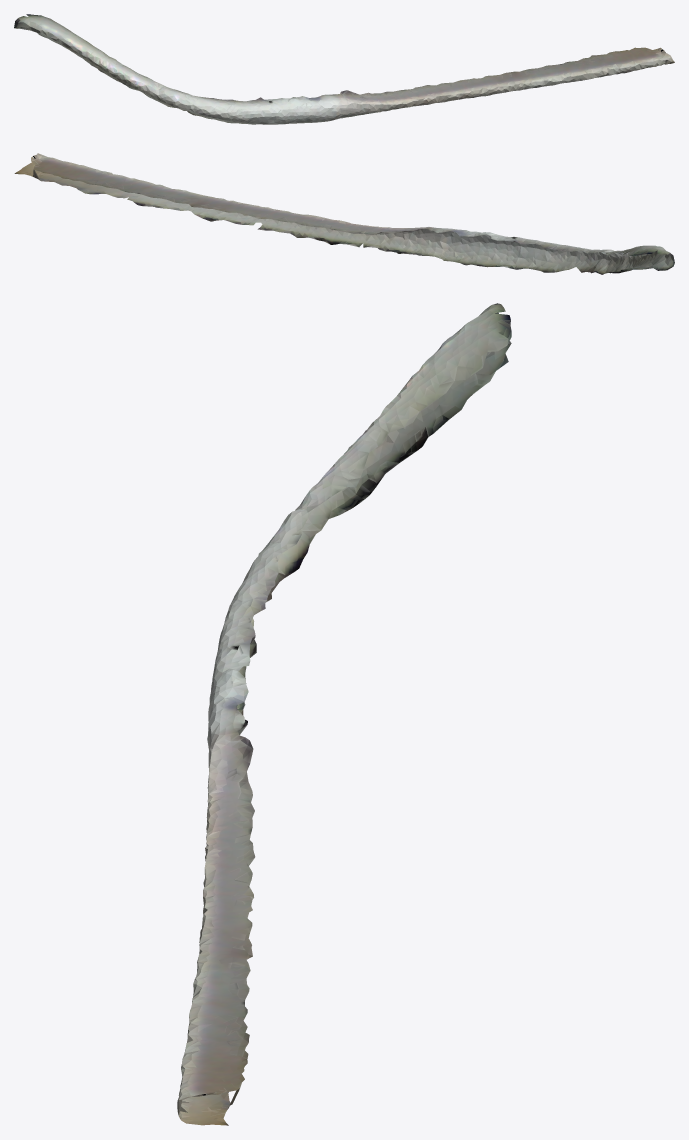
The picture shows the model from 3 angles, top to bottom: view 1: azimuth 30°, elevation 25°; view 2: azimuth 150°, elevation 25°; view 3: azimuth 270°, elevation 25°; orthographic projection. The views are drawn at different scales.
Visible parts, largest first — view 1: link2; view 2: link2; view 3: link2.
Part boxes in pixels (x1,y1,x2,y2): link2: [14, 14, 674, 124]; link2: [14, 153, 674, 274]; link2: [177, 303, 511, 1125].
Size of the model in its own units: 0.1198 by 0.0251 by 0.0297.
Materials: 1 (1 with a texture image).
